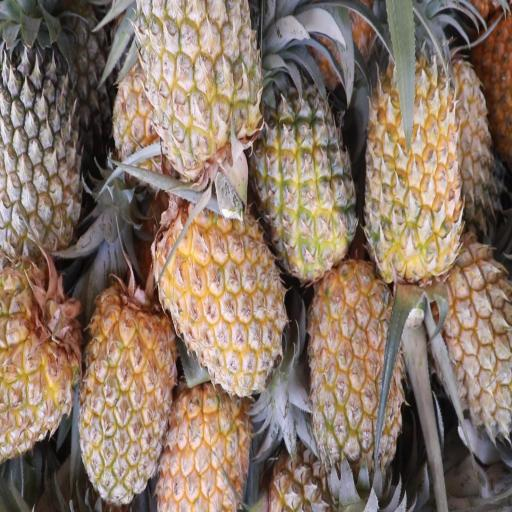------------------------------: (251, 38, 360, 284), (131, 0, 269, 184)
Pineapple - v8 v1: (361, 6, 468, 299), (151, 196, 291, 416), (304, 255, 406, 512), (78, 279, 181, 512), (0, 246, 87, 465), (435, 220, 512, 453), (155, 374, 254, 512)
